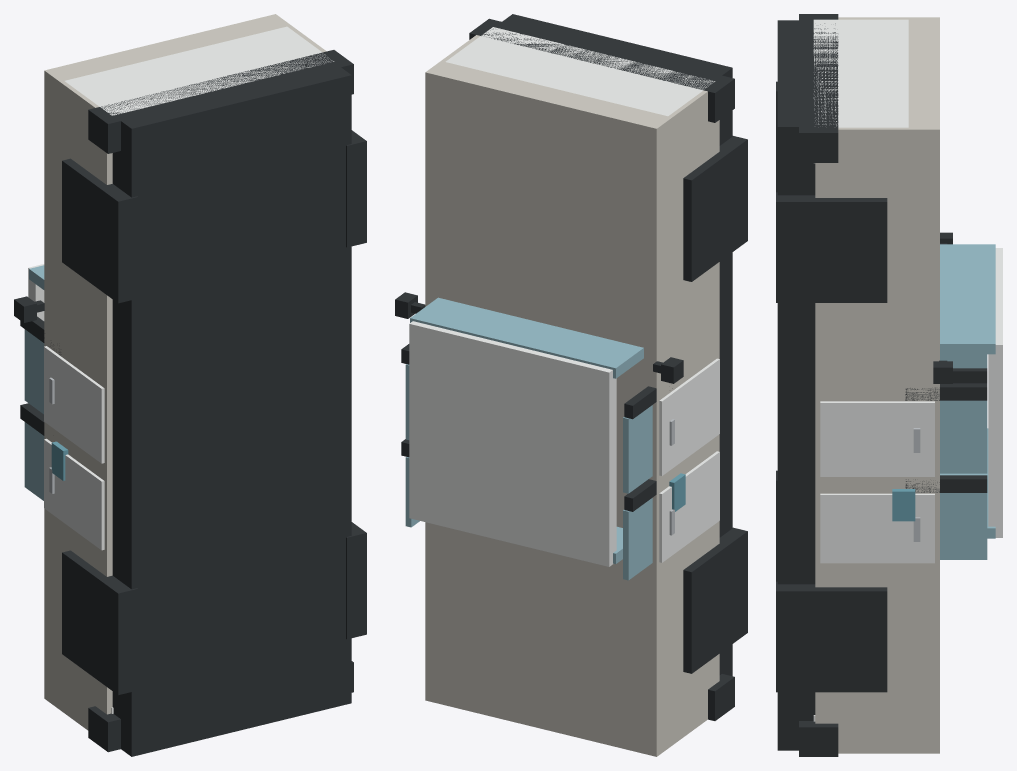
The model's file is car_electric.glb.
3 renders of one model, left to right at view 1: azimuth 30°, elevation 25°; view 2: azimuth 150°, elevation 25°; view 3: azimuth 270°, elevation 25°, orthographic.
Visible parts, largest first — view 1: Underbody.010, Tint.015, Nose, Wheel, Wheel.001, Front bumper.010, Body door, Body door.002, Wheel.002, Wheel.003, Side window.042, Side window.044 (+1 smaller); view 2: Tint.015, Cabin roof, Nose, Wheel, Wheel.001, Underbody.010, Windscreen.010, Front bumper.010, Body door, Body door.002, Side window.042, Side window.044 (+3 smaller); view 3: Tint.015, Underbody.010, Wheel.003, Wheel.002, Nose, Body door.001, Body door.003, Windscreen.010, Front bumper.010, Side window.043, Cabin roof, Side window.045 (+8 smaller).
Boxes of the visible parts, x1,y1,x2,y2 form: Underbody.010: (112,67,351,756); Tint.015: (44,14,326,730); Nose: (65,26,334,115); Wheel: (62,158,138,303); Wheel.001: (62,550,138,695); Front bumper.010: (88,50,353,153); Body door: (44,346,104,463); Body door.002: (44,438,104,550); Wheel.002: (346,130,366,247); Wheel.003: (346,522,366,639); Side window.042: (24,329,44,414); Side window.044: (24,422,44,500); Tint.015: (425,35,719,756); Cabin roof: (409,321,616,566); Nose: (445,27,715,116); Wheel: (683,136,747,281); Wheel.001: (683,527,747,673); Underbody.010: (502,14,732,676); Windscreen.010: (410,297,643,378); Front bumper.010: (469,18,734,122); Body door: (659,358,719,475); Body door.002: (659,451,719,562); Side window.042: (623,405,652,493); Side window.044: (623,498,652,580); Tint.015: (815,17,939,753); Underbody.010: (777,20,815,750); Wheel.003: (776,581,887,692); Wheel.002: (776,192,887,302); Nose: (813,19,908,163); Body door.001: (820,401,934,476); Body door.003: (820,493,934,563); Windscreen.010: (940,244,995,354); Front bumper.010: (799,14,838,162); Side window.043: (940,400,987,473); Cabin roof: (988,248,1002,537); Side window.045: (940,493,987,559).
Size of the model in its own units: 1.95 by 4.2 by 1.39.
